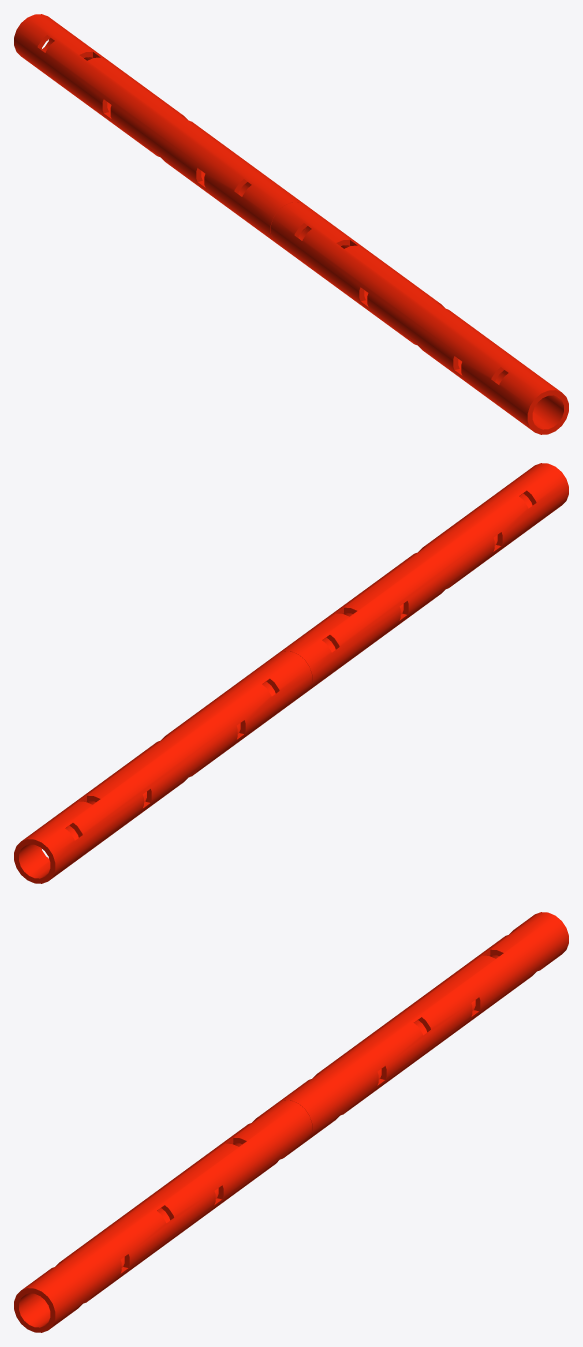
The model's file is StraightTube.FBX.
3 views of the same model, one above another, from view 1: azimuth 30°, elevation 25°; view 2: azimuth 150°, elevation 25°; view 3: azimuth 330°, elevation 25° (orthographic).
Parts seen in each view (by area): view 1: Tube002; view 2: Tube002; view 3: Tube002.
Part boxes in pixels (box(x1,y1,x2,y2)): Tube002: box(14, 14, 568, 434); Tube002: box(14, 463, 568, 883); Tube002: box(14, 912, 568, 1332).
Size of the model in its own units: 30.39 by 30.86 by 654.
